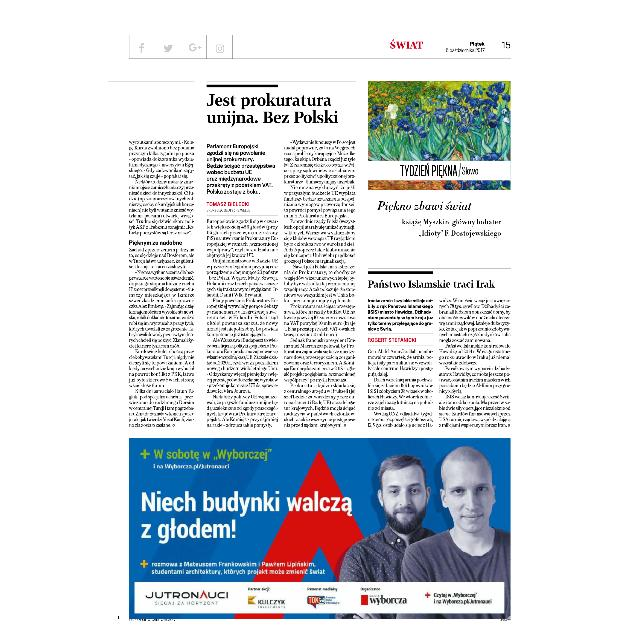article: (125, 83, 358, 429), (364, 270, 516, 430)
